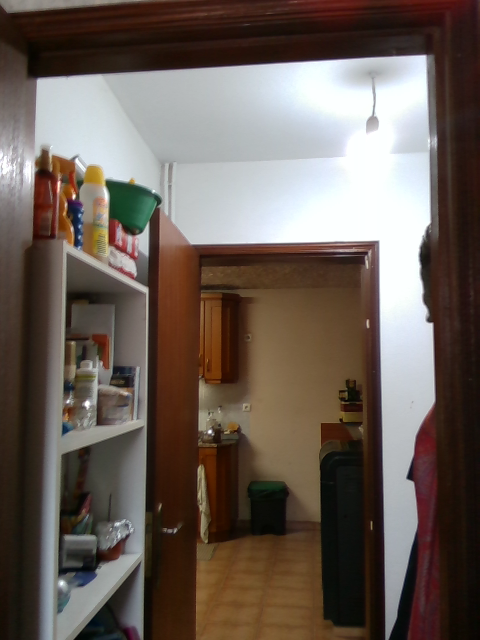open: (149, 208, 384, 639)
